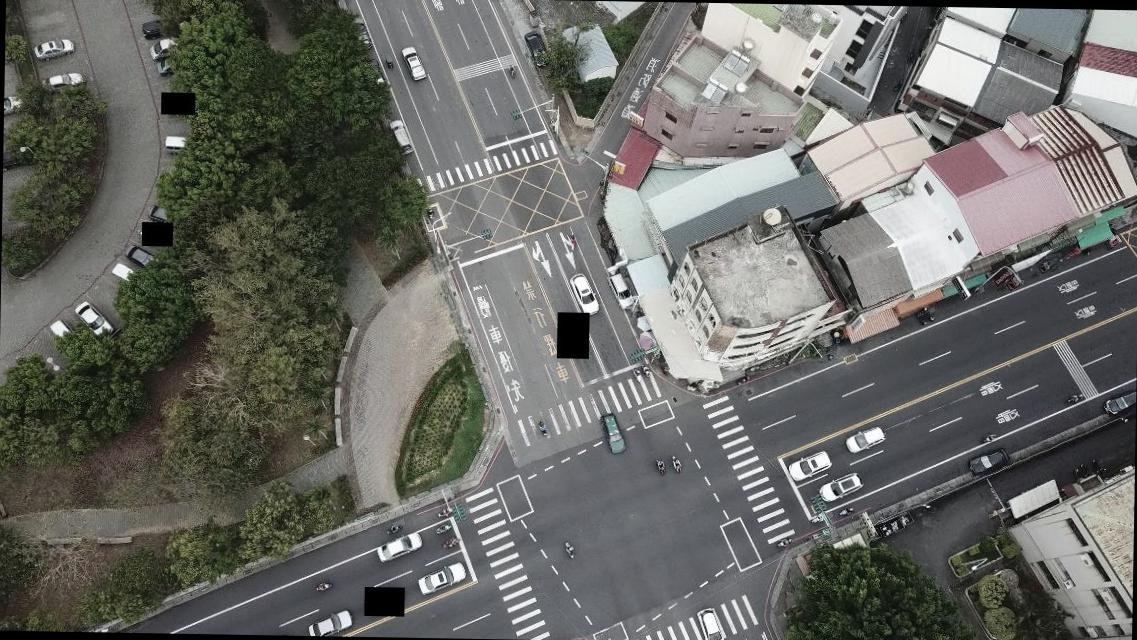vehicle: (418, 558, 469, 596), (817, 470, 864, 504), (376, 530, 424, 562), (787, 448, 832, 482), (74, 301, 113, 340), (569, 272, 600, 316), (308, 608, 356, 636), (966, 446, 1011, 475), (846, 424, 888, 454), (600, 414, 627, 456), (139, 16, 185, 40), (33, 36, 74, 61), (695, 607, 727, 639), (388, 118, 414, 157), (42, 70, 82, 94), (523, 30, 548, 68), (47, 315, 74, 350), (400, 46, 427, 80), (108, 260, 140, 288), (123, 245, 157, 268), (1104, 390, 1134, 416), (150, 38, 180, 61), (148, 204, 179, 224), (163, 134, 193, 152), (4, 94, 24, 116), (156, 59, 178, 74)
